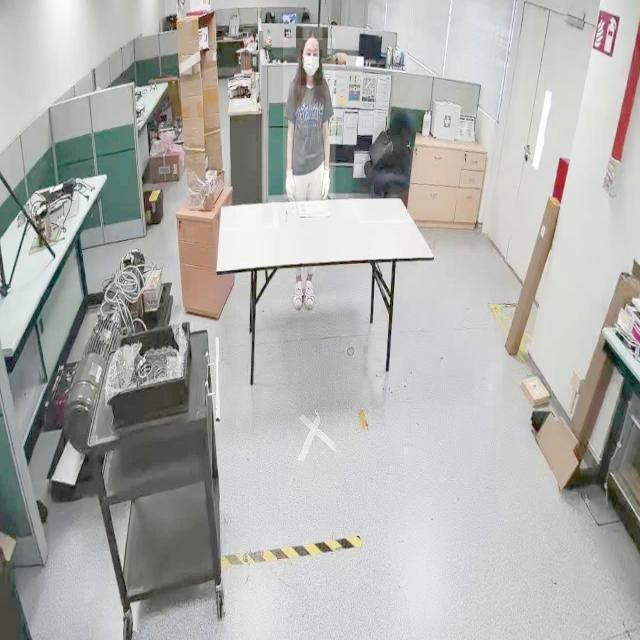face_mask: (300, 50, 322, 86)
hand_glove: (321, 166, 333, 200), (284, 166, 296, 200)
head_nohelmet: (302, 24, 322, 41)
person: (282, 38, 336, 198)
shoes: (290, 276, 304, 314), (304, 276, 316, 312)
